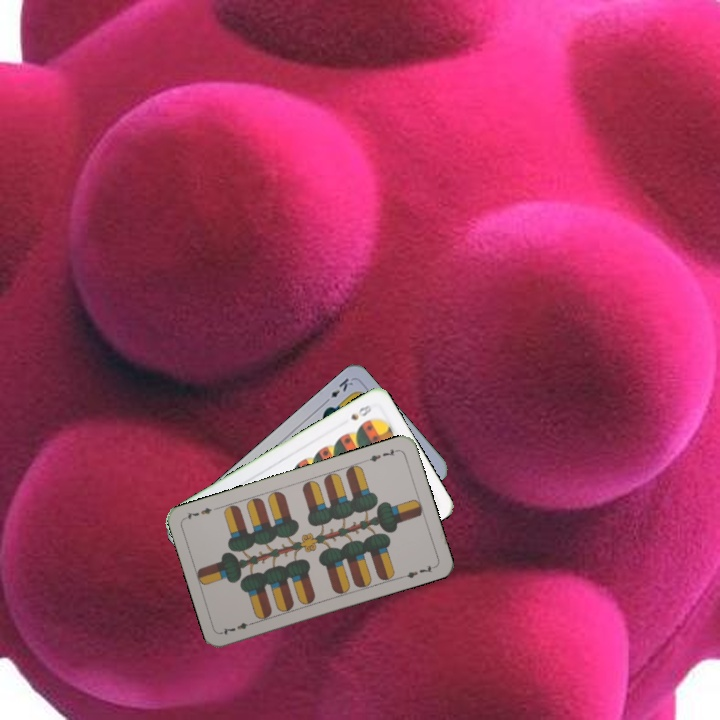E7: (361, 445, 401, 465), (218, 618, 258, 637)
EK: (320, 373, 356, 407)
S8: (346, 401, 374, 423)
